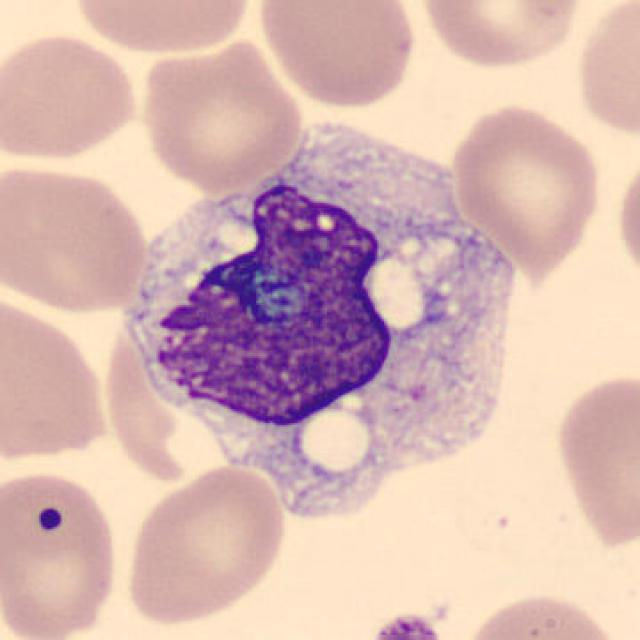Monocyte: (100, 110, 540, 518)
Platelets: (362, 610, 452, 640)
RBC: (121, 460, 290, 628), (444, 99, 604, 275), (135, 35, 306, 196), (0, 159, 153, 317), (0, 465, 124, 639), (0, 288, 114, 466), (0, 28, 142, 166), (253, 0, 422, 111), (549, 366, 640, 554), (414, 0, 586, 72), (67, 0, 256, 56), (572, 0, 640, 141), (457, 587, 627, 640), (611, 144, 640, 292)
